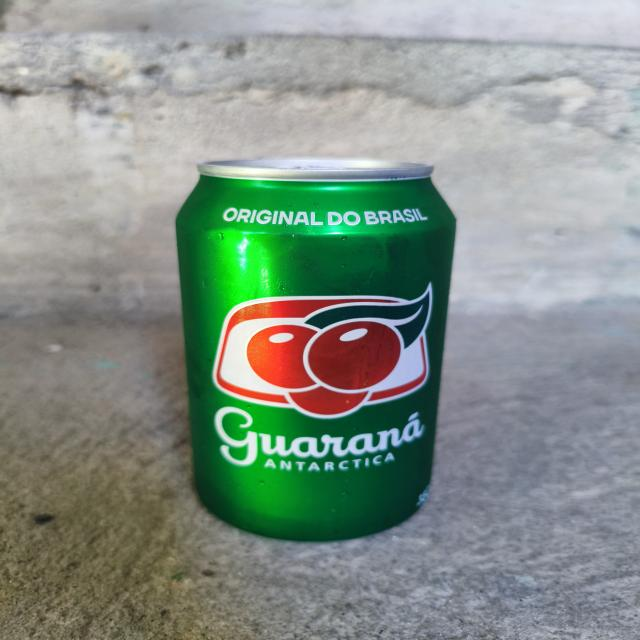Guarana: (167, 142, 466, 544)
